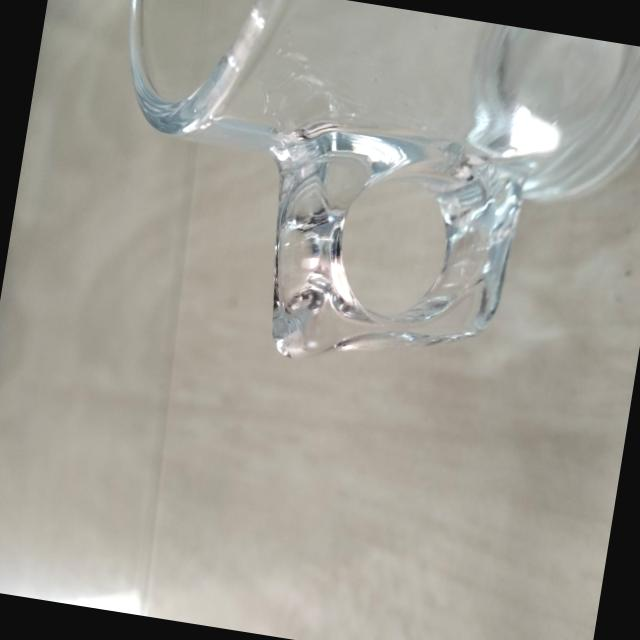glass-VX4N: (73, 0, 640, 411)
